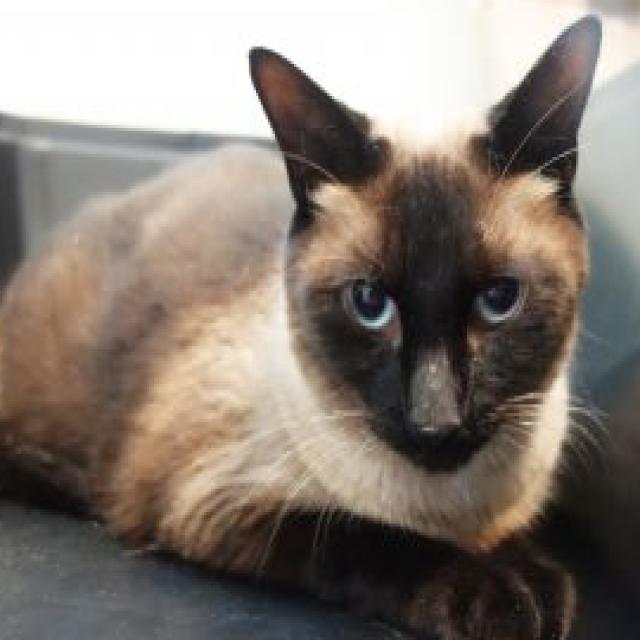Siamese: (0, 6, 609, 640)
